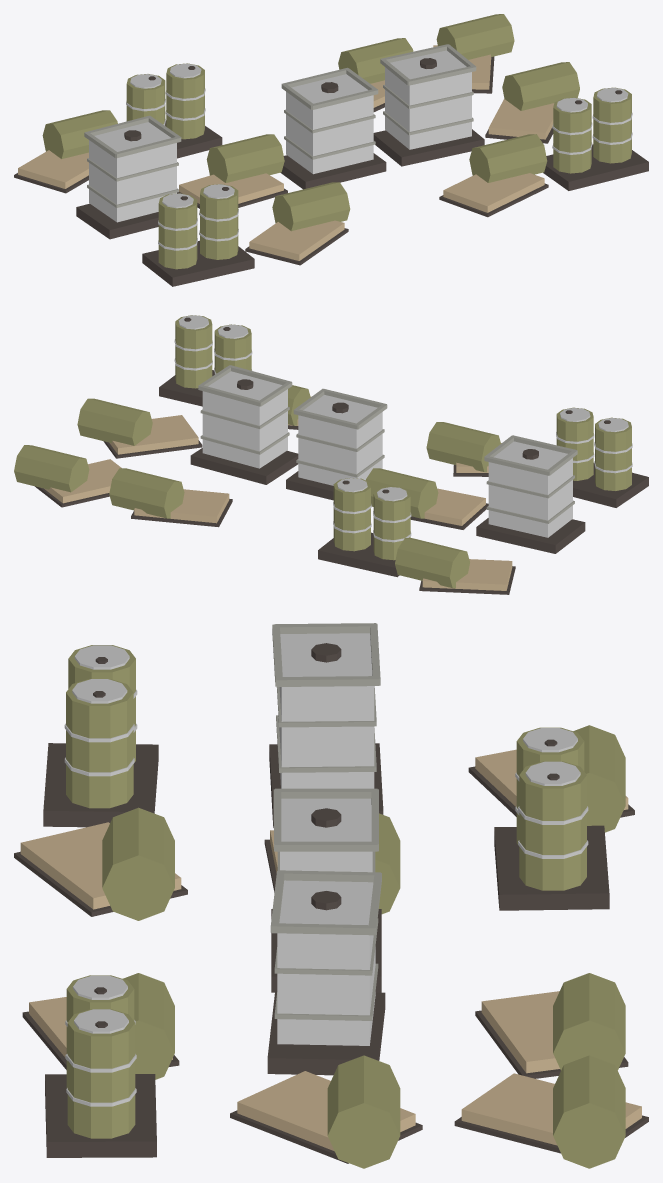
File: SM_AcopioCombustible_v3_Saqueado_LOD0.fbx
The picture shows the model from 3 angles, top to bottom: view 1: azimuth 30°, elevation 25°; view 2: azimuth 150°, elevation 25°; view 3: azimuth 270°, elevation 25°; orthographic projection. The views are drawn at different scales.
Parts seen in each view (by area): view 1: SM_acopio_carga_v8_LOD0; view 2: SM_acopio_carga_v8_LOD0; view 3: SM_acopio_carga_v8_LOD0.
Part boxes in pixels (x1,y1,x2,y2): SM_acopio_carga_v8_LOD0: (14,14,648,286); SM_acopio_carga_v8_LOD0: (14,315,648,594); SM_acopio_carga_v8_LOD0: (14,623,648,1168).
Size of the model in its own units: 7.85 by 1.27 by 5.07.
